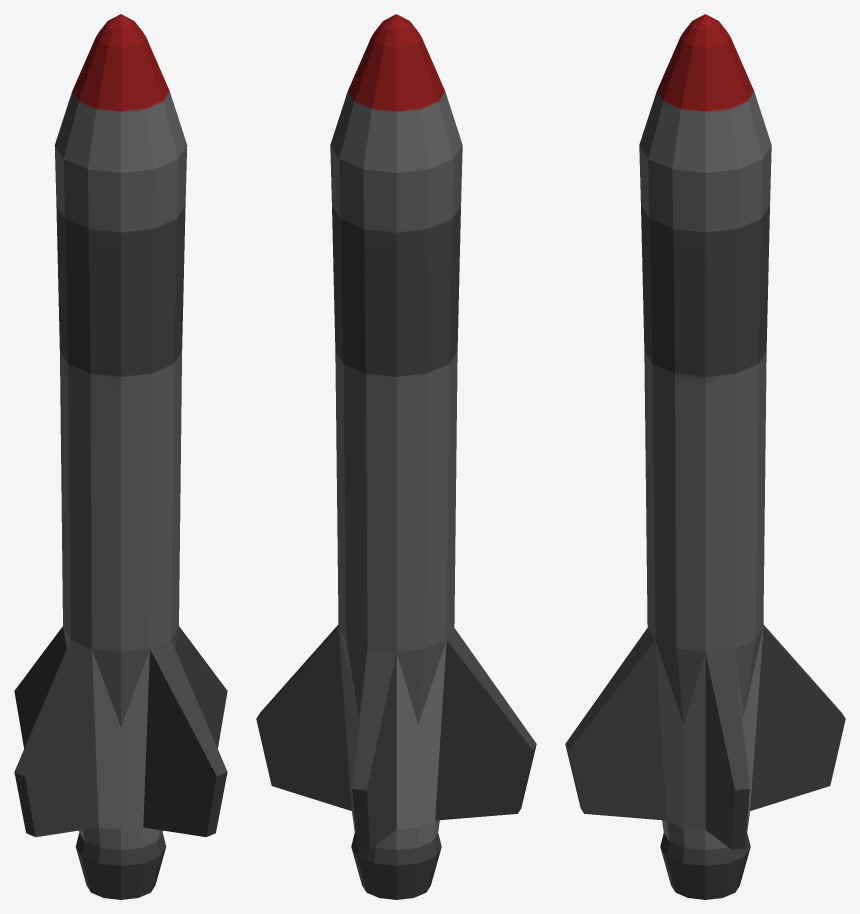
The model's file is Missile Jet.fbx.
3 renders of one model, left to right at view 1: azimuth 30°, elevation 25°; view 2: azimuth 150°, elevation 25°; view 3: azimuth 270°, elevation 25°, orthographic.
Visible parts, largest first — view 1: Missile Jet; view 2: Missile Jet; view 3: Missile Jet.
Part boxes in pixels (bbox=[...]): Missile Jet: bbox=[14, 14, 227, 899]; Missile Jet: bbox=[256, 14, 536, 899]; Missile Jet: bbox=[565, 14, 845, 899].
Bounding box in the file's own units: 679 × 2327 × 679.
Materials: 1 (1 with a texture image).
